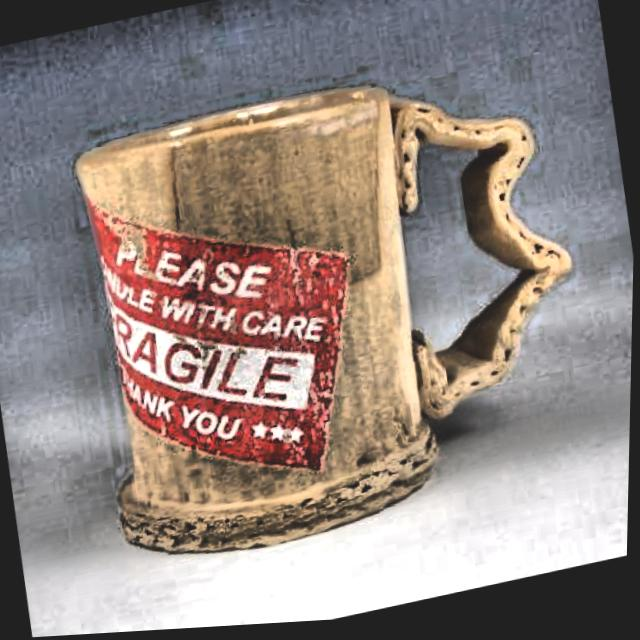Cardbox: (21, 10, 611, 601)
